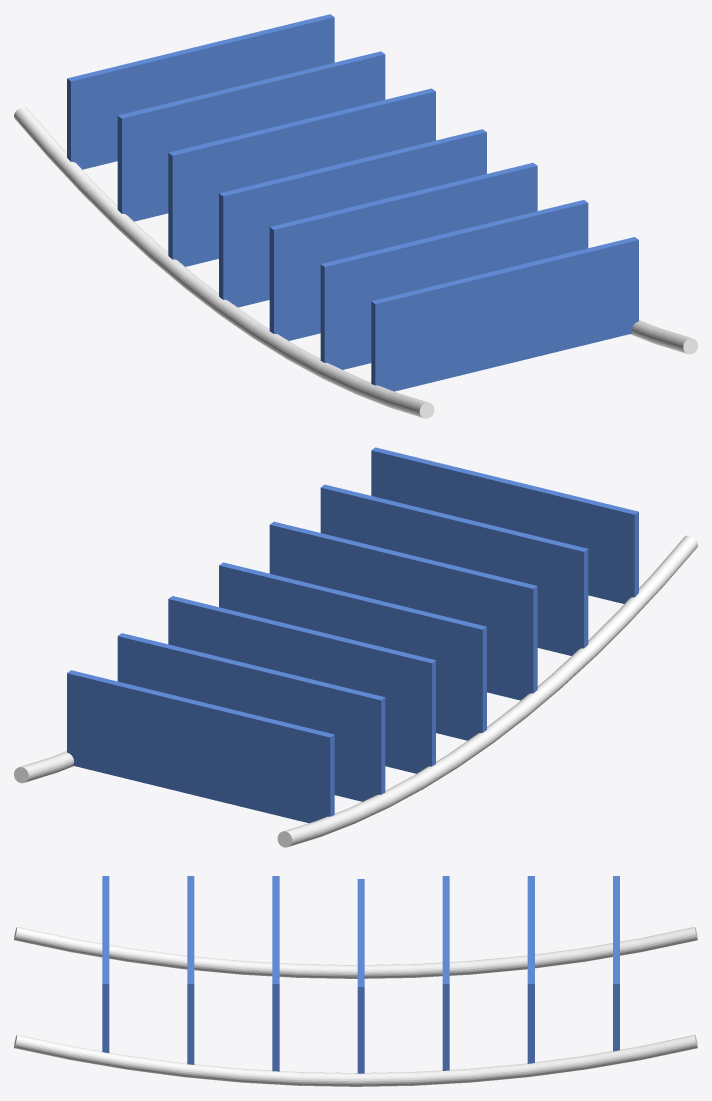
3 renders of one model, top to bottom at view 1: azimuth 30°, elevation 25°; view 2: azimuth 150°, elevation 25°; view 3: azimuth 270°, elevation 25°, orthographic. The views are drawn at different scales.
Parts seen in each view (by area): view 1: contemporary shelf; view 2: contemporary shelf; view 3: contemporary shelf.
Boxes of the visible parts, x1,y1,x2,y2 form: contemporary shelf: (14,14,697,418); contemporary shelf: (14,447,697,847); contemporary shelf: (14,876,697,1086).
Bounding box in the file's own units: 19 × 7.96 × 48.22.
